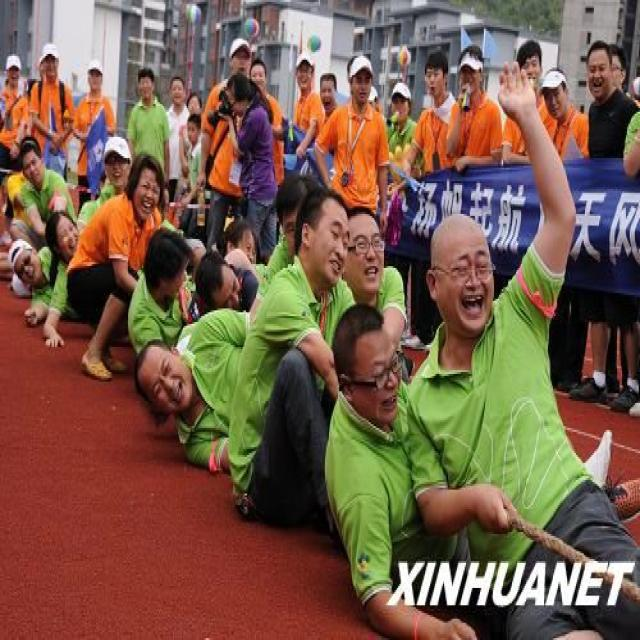10-: (1, 4, 639, 634)
down: (399, 56, 639, 638), (318, 293, 538, 634), (132, 297, 315, 484), (44, 197, 136, 351), (122, 227, 215, 378), (4, 218, 86, 349), (184, 243, 265, 345), (215, 205, 279, 306)
